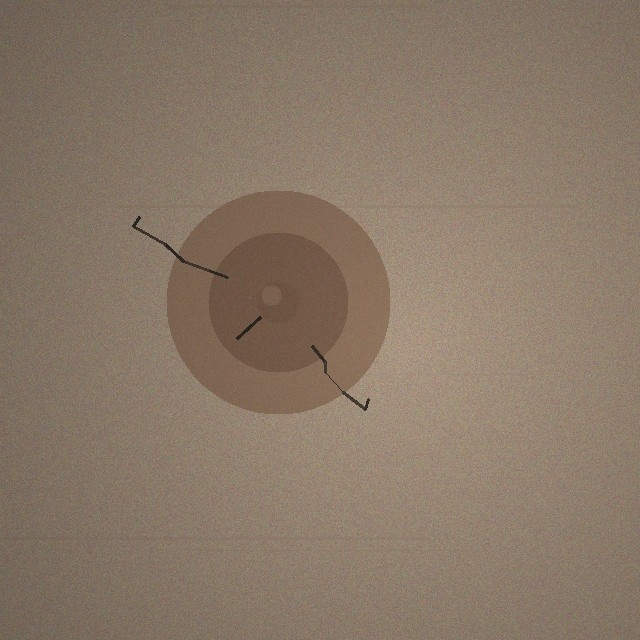crack: (166, 190, 390, 414)
